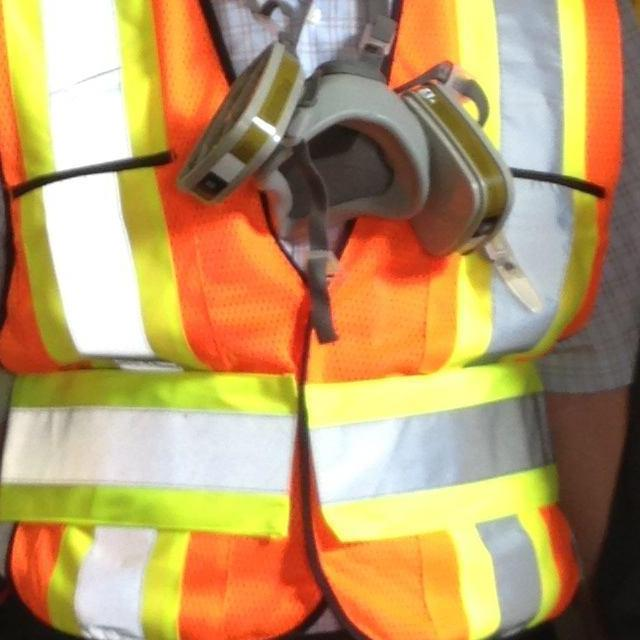Person: (0, 0, 640, 640)
Safety Vest: (0, 0, 629, 640)
